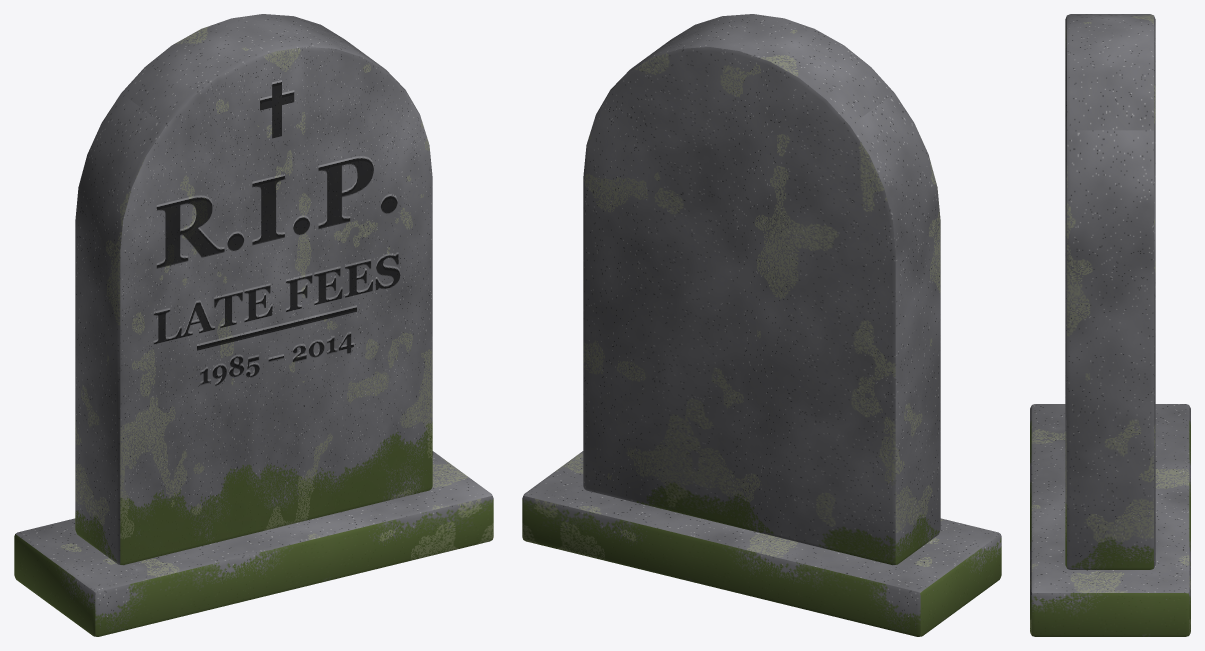
File: tombstone.glb
3 renders of one model, left to right at view 1: azimuth 30°, elevation 25°; view 2: azimuth 150°, elevation 25°; view 3: azimuth 270°, elevation 25°, orthographic. The views are drawn at different scales.
Parts seen in each view (by area): view 1: tombstone; view 2: tombstone; view 3: tombstone.
Boxes of the visible parts, x1,y1,x2,y2 form: tombstone: [14, 14, 493, 636]; tombstone: [522, 14, 1001, 636]; tombstone: [1030, 14, 1190, 636].
Size of the model in its own units: 0.7 by 0.88 by 0.25.
2 materials, 2 textured.
